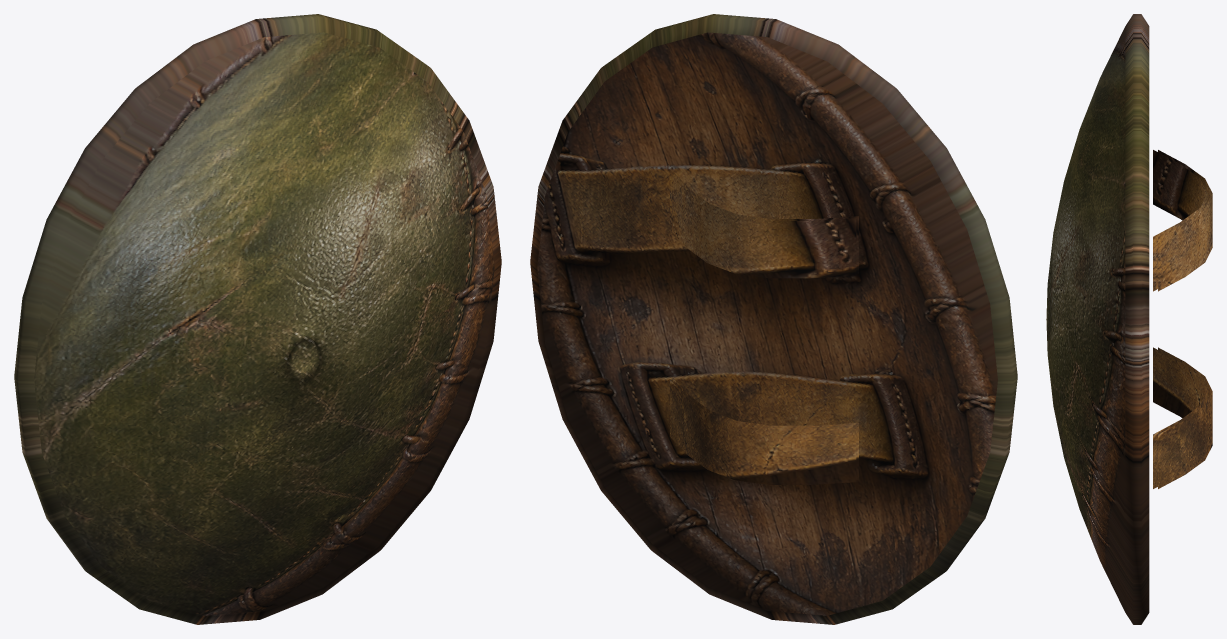
Rendered from mm6_natm_buckler.glb.
The picture shows the model from 3 angles, left to right: view 1: azimuth 30°, elevation 25°; view 2: azimuth 150°, elevation 25°; view 3: azimuth 270°, elevation 25°; orthographic projection. The views are drawn at different scales.
Parts seen in each view (by area): view 1: Buckler; view 2: Buckler; view 3: Buckler.
Part boxes in pixels (x1=…): Buckler: x1=14, y1=14, x2=501, y2=624; Buckler: x1=530, y1=14, x2=1017, y2=624; Buckler: x1=1046, y1=14, x2=1212, y2=624.
Bounding box in the file's own units: 0.4408 × 0.5208 × 0.137.
1 material, 1 textured.
